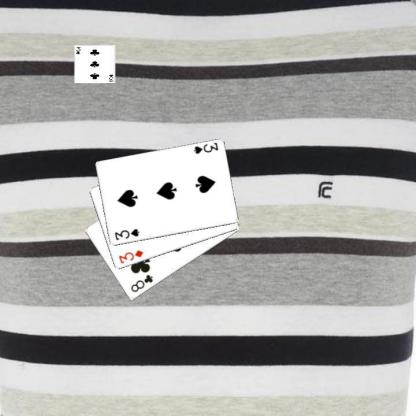3D: (116, 248, 145, 265)
3S: (112, 226, 140, 242), (191, 140, 219, 156)
8C: (128, 272, 154, 294)
